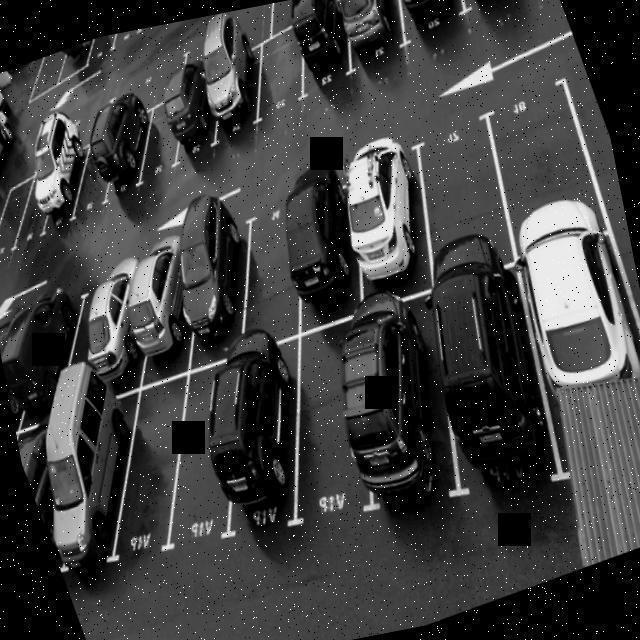space-empty: (250, 309, 413, 538), (72, 353, 238, 574), (130, 342, 285, 561), (466, 64, 614, 245), (396, 116, 527, 296), (208, 190, 331, 358), (31, 262, 134, 391), (119, 84, 205, 197), (0, 151, 78, 259), (240, 25, 323, 122), (60, 113, 133, 216), (0, 171, 52, 278)
space-occupied: (400, 261, 585, 504), (319, 278, 498, 522), (493, 219, 640, 471), (7, 362, 168, 578), (189, 335, 341, 551), (328, 144, 451, 307), (263, 161, 382, 319), (107, 220, 218, 378), (162, 210, 276, 355), (11, 396, 90, 568), (0, 274, 99, 406), (69, 253, 163, 376), (278, 0, 371, 109), (84, 96, 177, 205), (192, 41, 283, 148), (153, 62, 237, 167), (24, 129, 103, 234), (327, 0, 424, 83), (384, 0, 482, 56), (0, 295, 42, 425), (452, 0, 550, 25)
